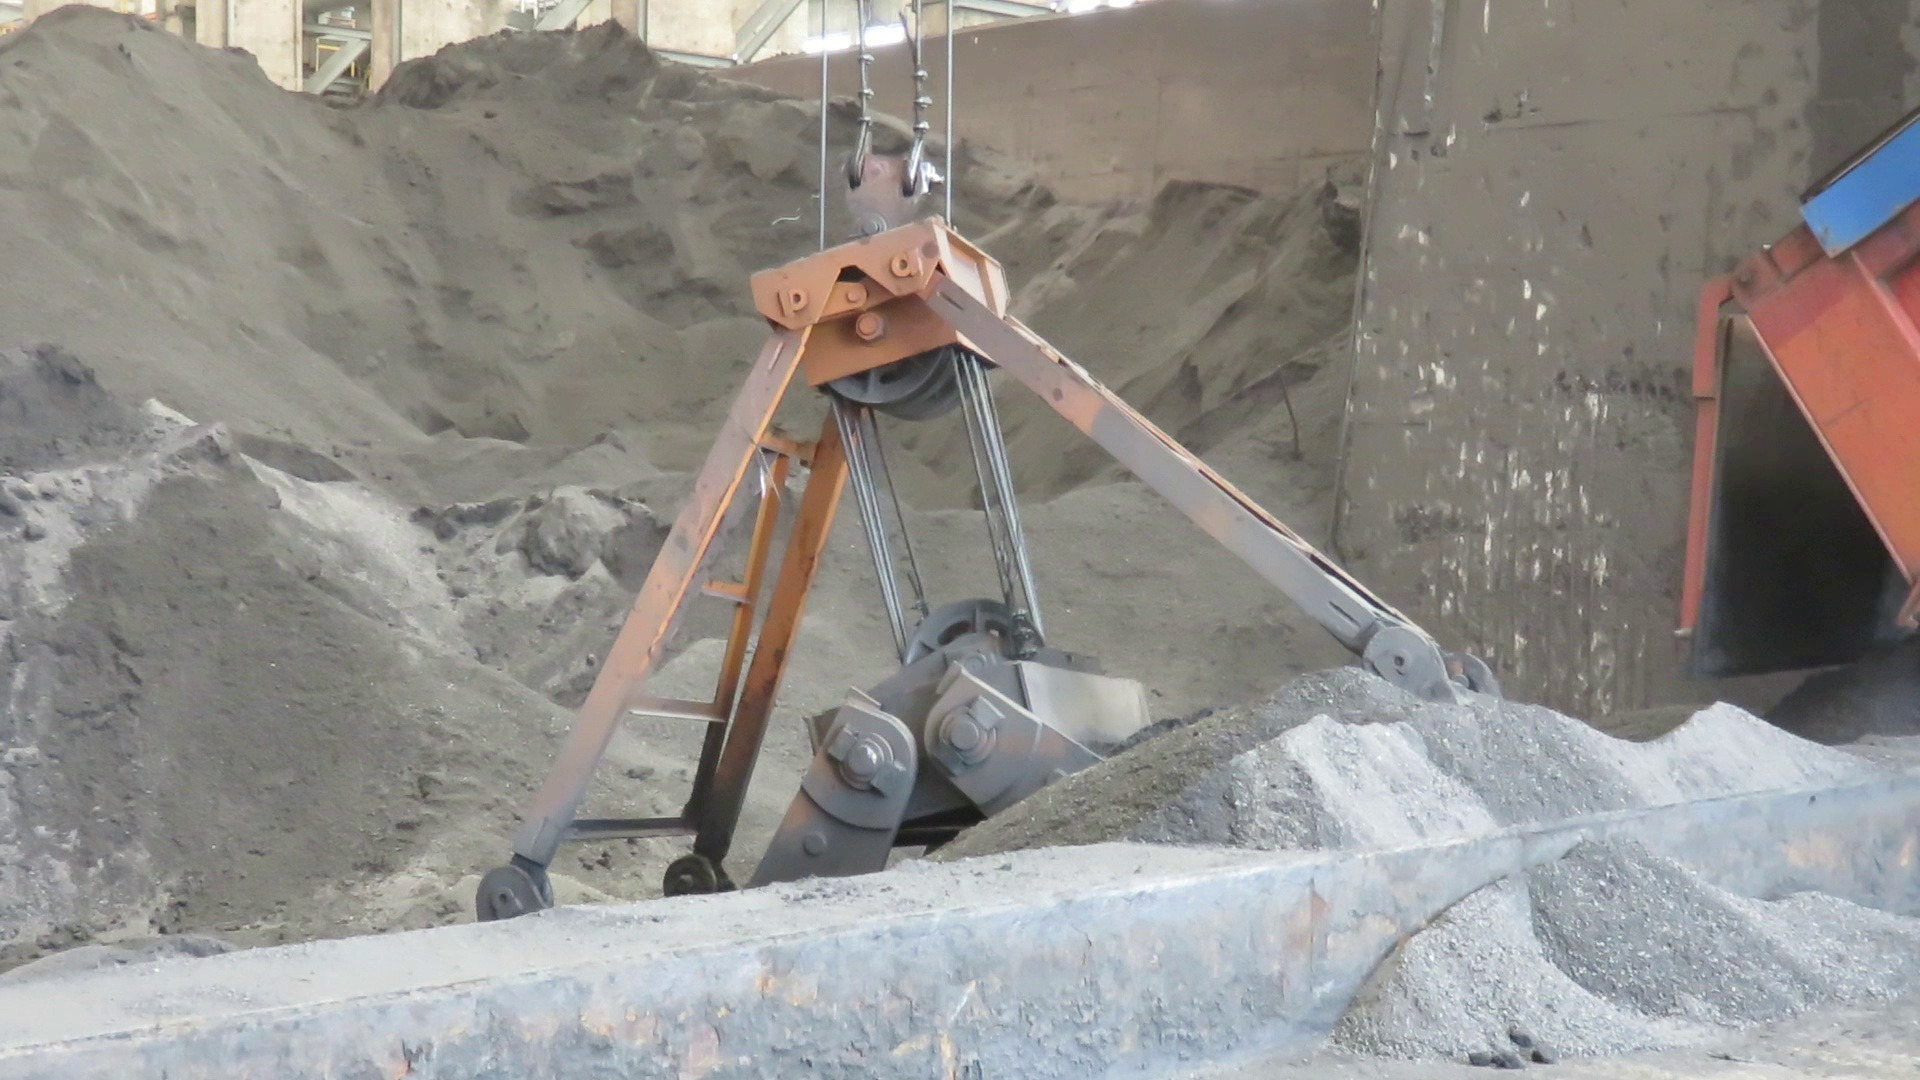grab: (468, 129, 1460, 942)
